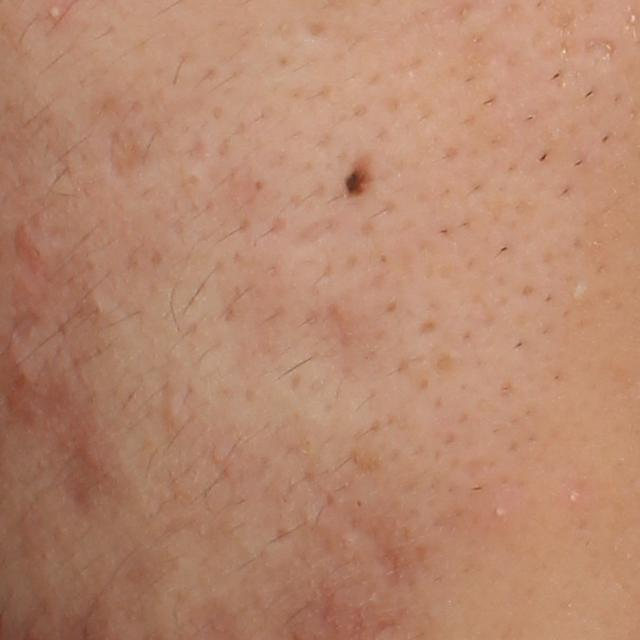atrophic_scar: (347, 514, 413, 591), (5, 274, 45, 343), (143, 375, 178, 445), (289, 211, 349, 249), (110, 129, 149, 176), (580, 40, 618, 62)
comedo: (568, 283, 589, 309)
nevus: (342, 159, 374, 201)
papule: (13, 223, 47, 273)
